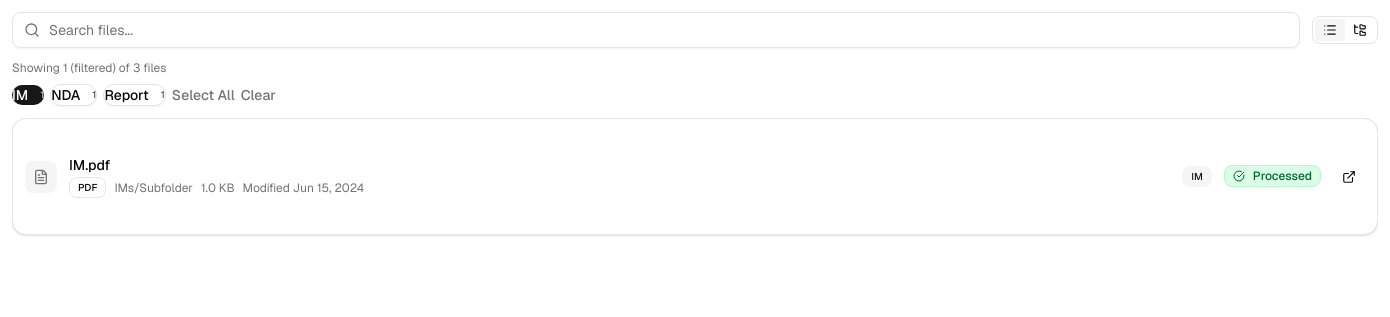
VirtualFilesList › file type filter pills › allows multiple pills to be toggled simultaneously
Check: the text "IM.pdf" is shown, box [69, 156, 110, 174]
Note: Add NDA to active filters (IM + NDA both active)
Click the button "NDA 1" at (74, 95), box [50, 84, 97, 106]
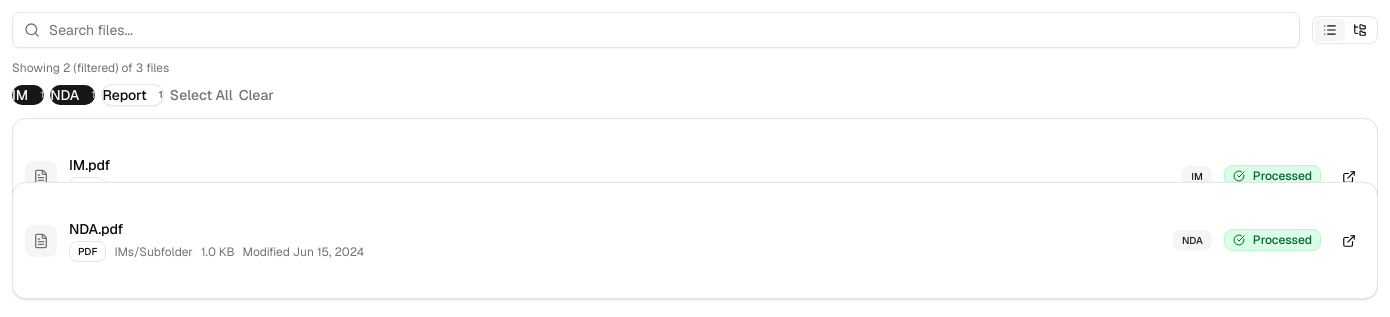
Check: the text "IM.pdf" is shown, box [69, 156, 110, 174]
Check: the text "NDA.pdf" is shown, box [69, 220, 123, 238]
